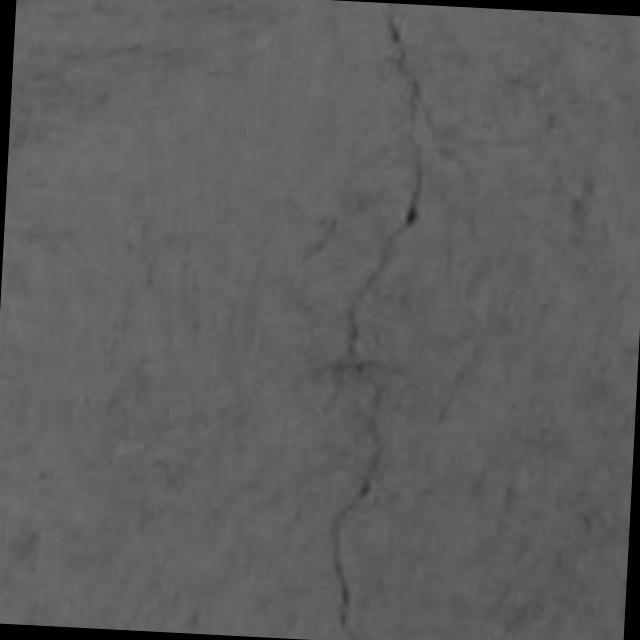crack: (329, 3, 422, 639)
